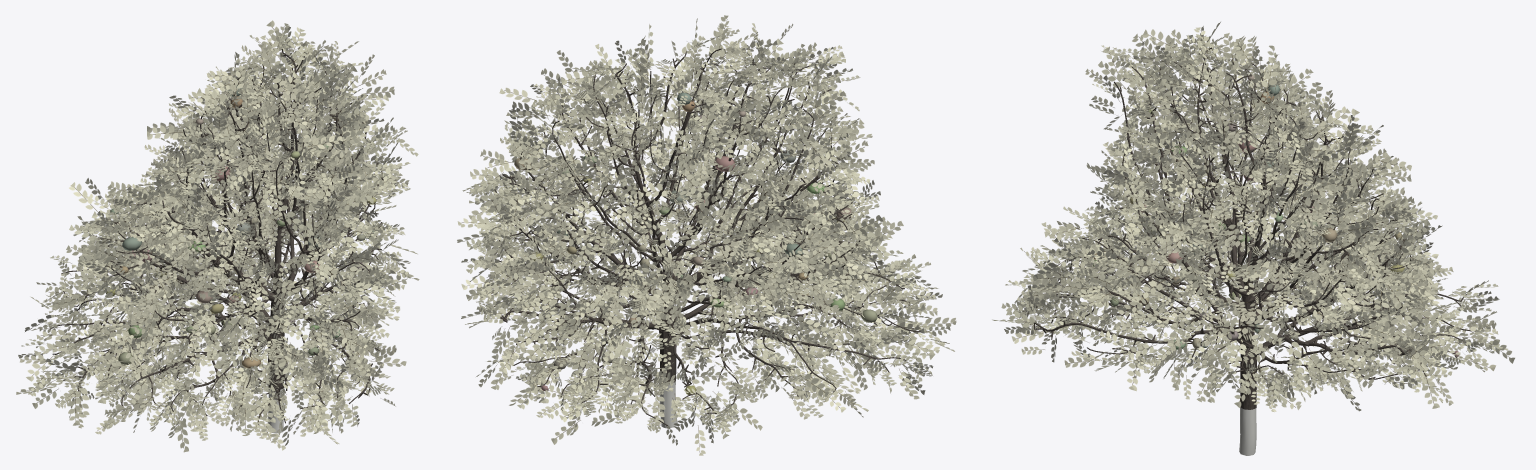
The model's file is tree_18_camphor.glb.
The picture shows the model from 3 angles, left to right: view 1: azimuth 30°, elevation 25°; view 2: azimuth 150°, elevation 25°; view 3: azimuth 270°, elevation 25°; orthographic projection. The views are drawn at different scales.
Parts seen in each view (by area): view 1: tree_18_camphor.leaves, tree_18_camphor.trunk_branches, tree_18_camphor.foliage_volume; view 2: tree_18_camphor.leaves, tree_18_camphor.trunk_branches, tree_18_camphor.foliage_volume, tree_18_camphor.trunk_whitewash; view 3: tree_18_camphor.leaves, tree_18_camphor.trunk_branches, tree_18_camphor.foliage_volume, tree_18_camphor.trunk_whitewash.
Part boxes in pixels (x1,y1,x2,y2): tree_18_camphor.leaves: [16, 20, 419, 452]; tree_18_camphor.trunk_branches: [50, 49, 383, 425]; tree_18_camphor.foliage_volume: [106, 85, 376, 397]; tree_18_camphor.leaves: [457, 15, 956, 455]; tree_18_camphor.trunk_branches: [494, 48, 920, 425]; tree_18_camphor.foliage_volume: [514, 76, 877, 395]; tree_18_camphor.trunk_whitewash: [659, 381, 677, 428]; tree_18_camphor.leaves: [992, 22, 1514, 411]; tree_18_camphor.trunk_branches: [1034, 47, 1470, 409]; tree_18_camphor.foliage_volume: [1066, 74, 1458, 356]; tree_18_camphor.trunk_whitewash: [1239, 407, 1256, 455].
Size of the model in its own units: 13.08 by 11.76 by 14.
Materials: 4 (2 with a texture image).
